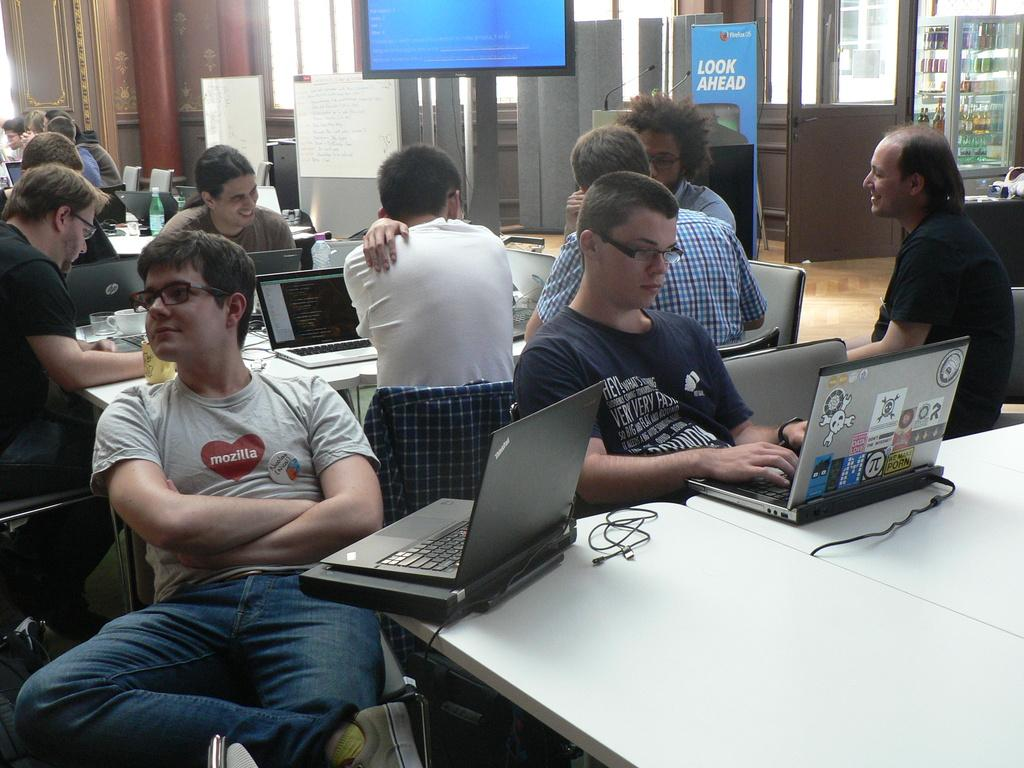Laptop: (314, 406, 603, 636), (685, 336, 969, 524), (257, 262, 376, 368), (66, 266, 144, 326), (509, 252, 554, 301), (250, 246, 303, 274), (6, 163, 22, 184)
